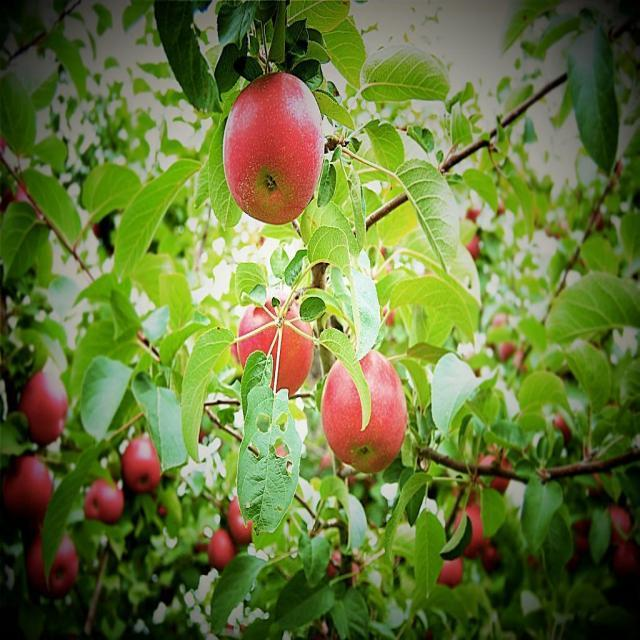Red Apple: (222, 77, 320, 212), (332, 354, 403, 461), (243, 298, 308, 396), (23, 372, 63, 441), (29, 539, 76, 591), (12, 455, 51, 517), (124, 436, 165, 484), (598, 503, 630, 556), (90, 480, 122, 528), (562, 522, 590, 570), (13, 177, 48, 214), (330, 550, 364, 584), (465, 512, 488, 558), (230, 499, 250, 547), (485, 452, 509, 490), (212, 530, 232, 566), (443, 555, 465, 586), (464, 233, 489, 256), (487, 547, 505, 574), (379, 304, 399, 328), (554, 413, 572, 439), (512, 350, 530, 373), (590, 204, 605, 229), (468, 203, 484, 226), (494, 198, 510, 219), (498, 340, 515, 358), (494, 312, 508, 328)
